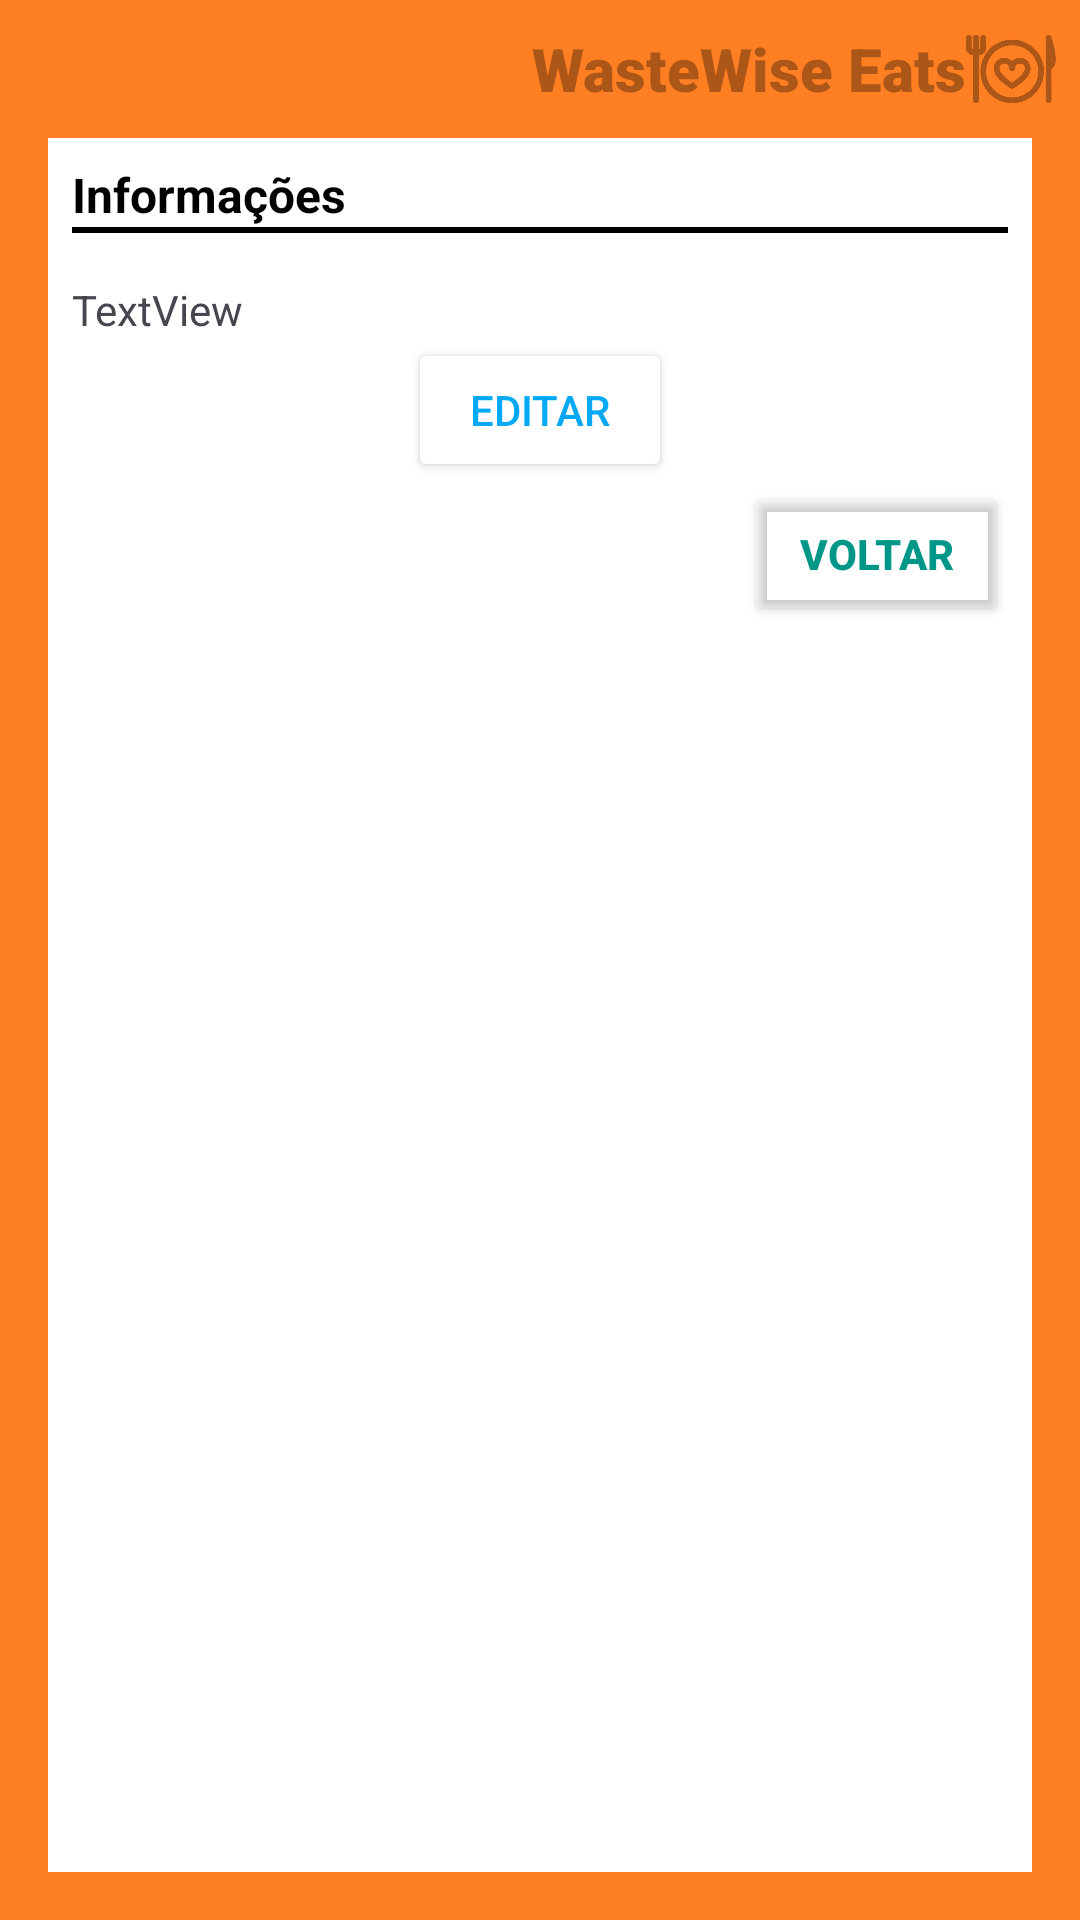

Where icons sit on this 1080px x 1920px app screen, as (x1, y1, x2, y2):
prato: (966, 35, 1056, 103)
